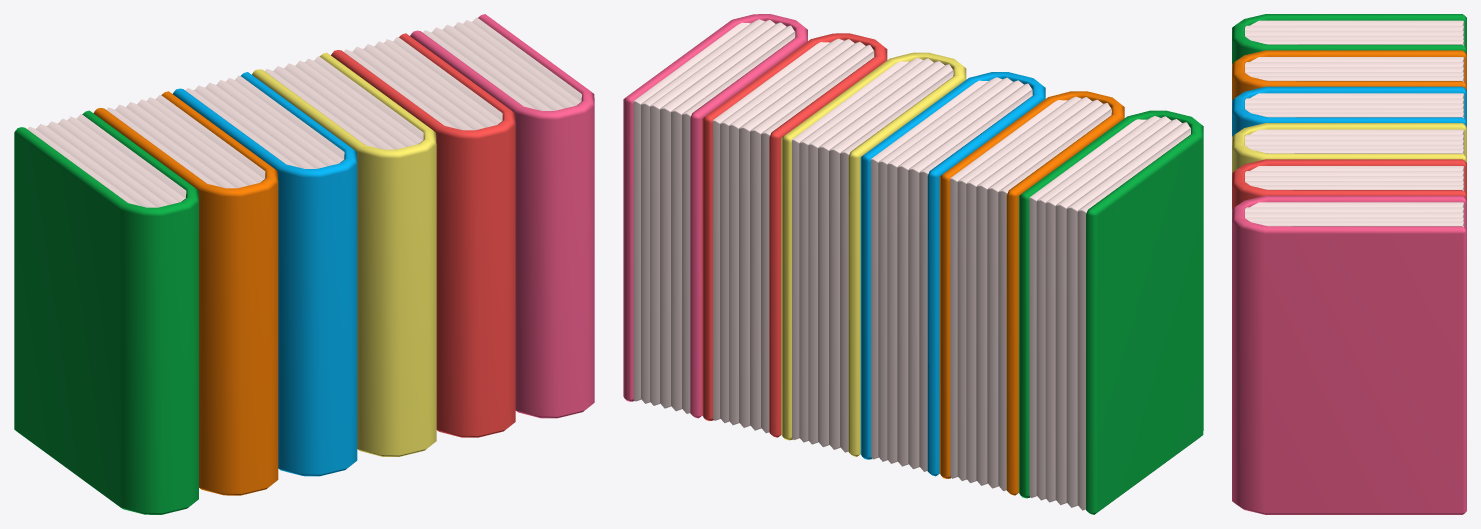
File: Public_8_Books_1.glb
3 views of the same model, side by side, from view 1: azimuth 30°, elevation 25°; view 2: azimuth 150°, elevation 25°; view 3: azimuth 270°, elevation 25° (orthographic). The views are drawn at different scales.
Visible parts, largest first — view 1: Public_8_Books_1; view 2: Public_8_Books_1; view 3: Public_8_Books_1.
Part boxes in pixels (left/top/right/bottom): Public_8_Books_1: left=14, top=14, right=594, bottom=514; Public_8_Books_1: left=623, top=14, right=1203, bottom=514; Public_8_Books_1: left=1232, top=14, right=1466, bottom=514.
Bounding box in the file's own units: 1.88 × 1.15 × 0.8548.
Materials: 1 (1 with a texture image).
